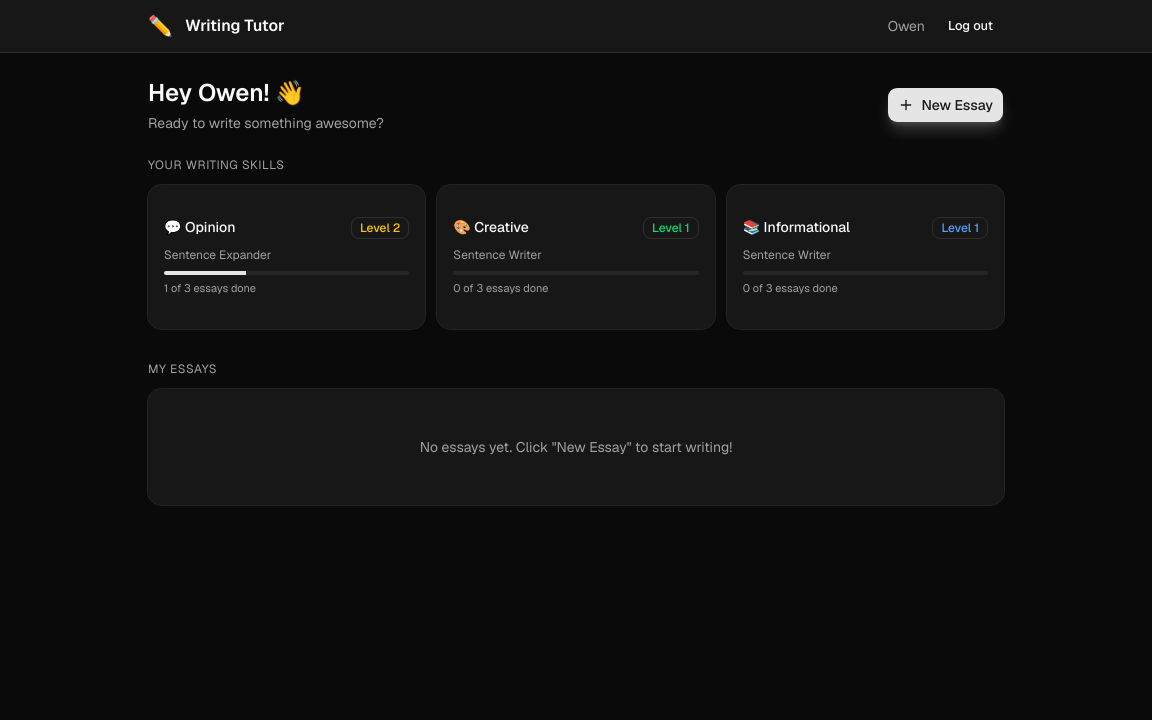
Test: HomePage › opens the New Essay dialog when the top-right button is clicked
Click the button "New Essay" at (945, 105), box left=886, top=87, right=1004, bottom=123
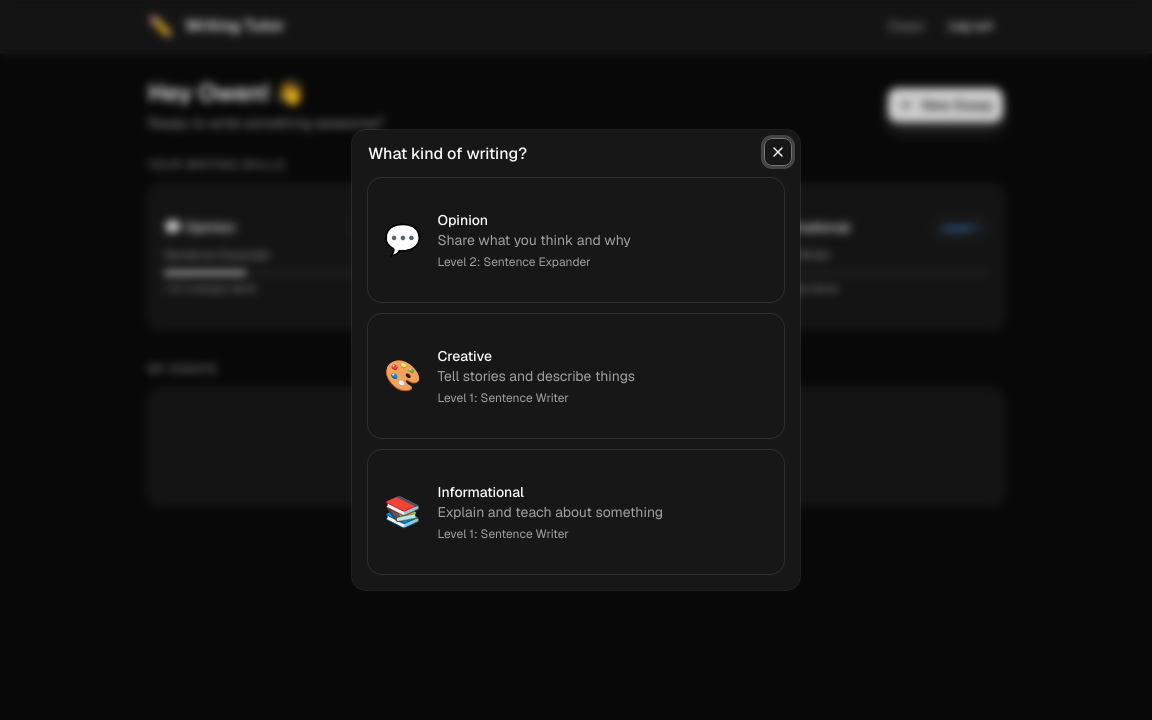
Expected: the heading "What kind of writing?" is shown, left=368, top=143, right=527, bottom=164
